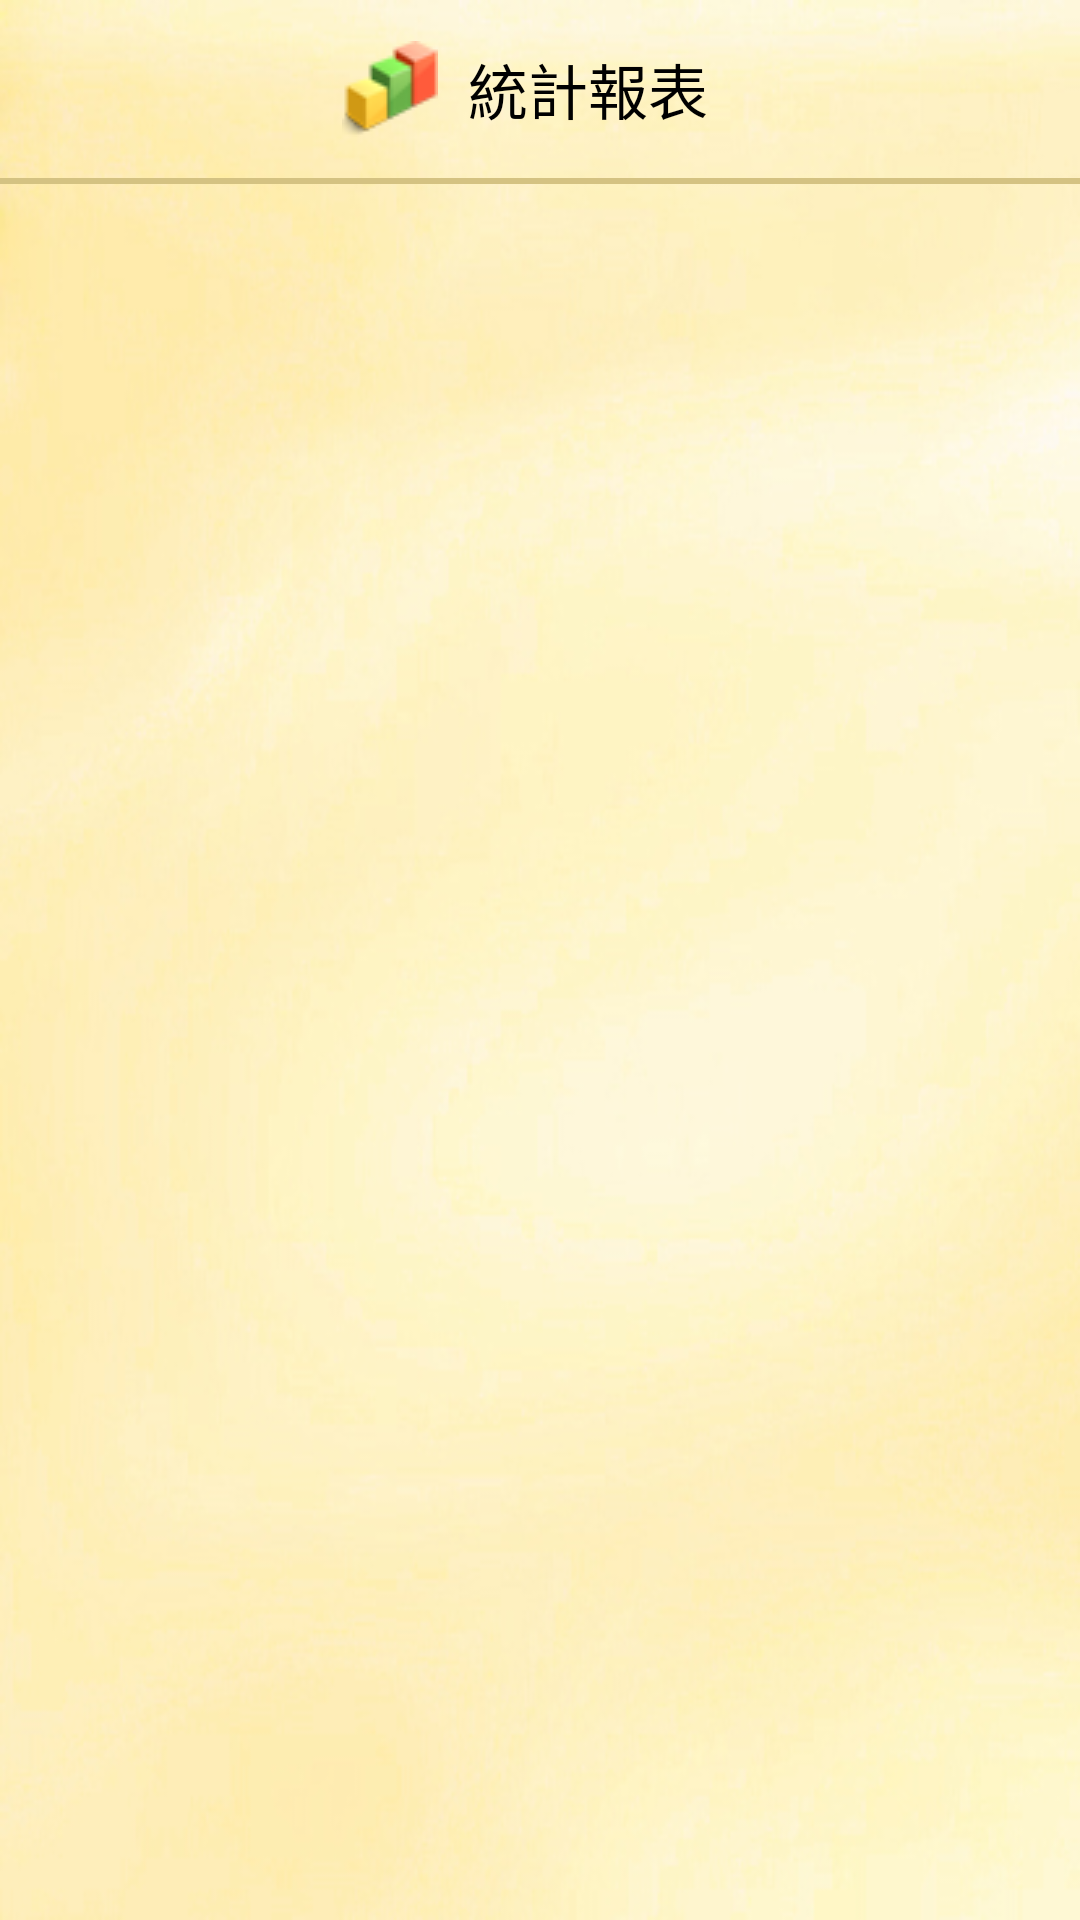

Where icons sit on this 1080x1920 app screen, as (left=x1, top=y1, right=x2, bottom=y2):
chart: (left=344, top=41, right=438, bottom=134)
